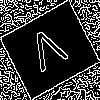V: (24, 25, 74, 82)
